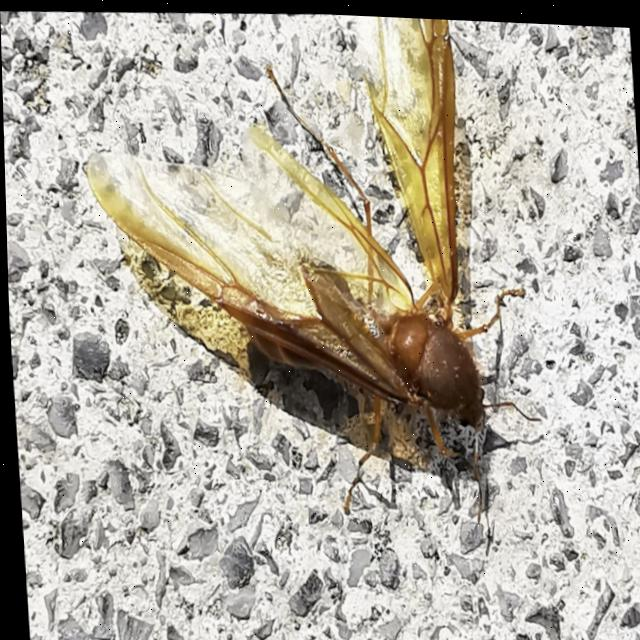Alive-Male-Alate: (75, 3, 545, 539)
